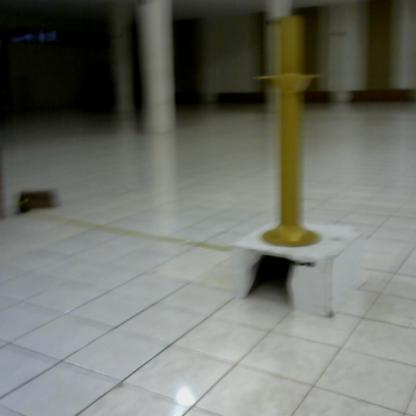pole: (254, 13, 334, 255)
